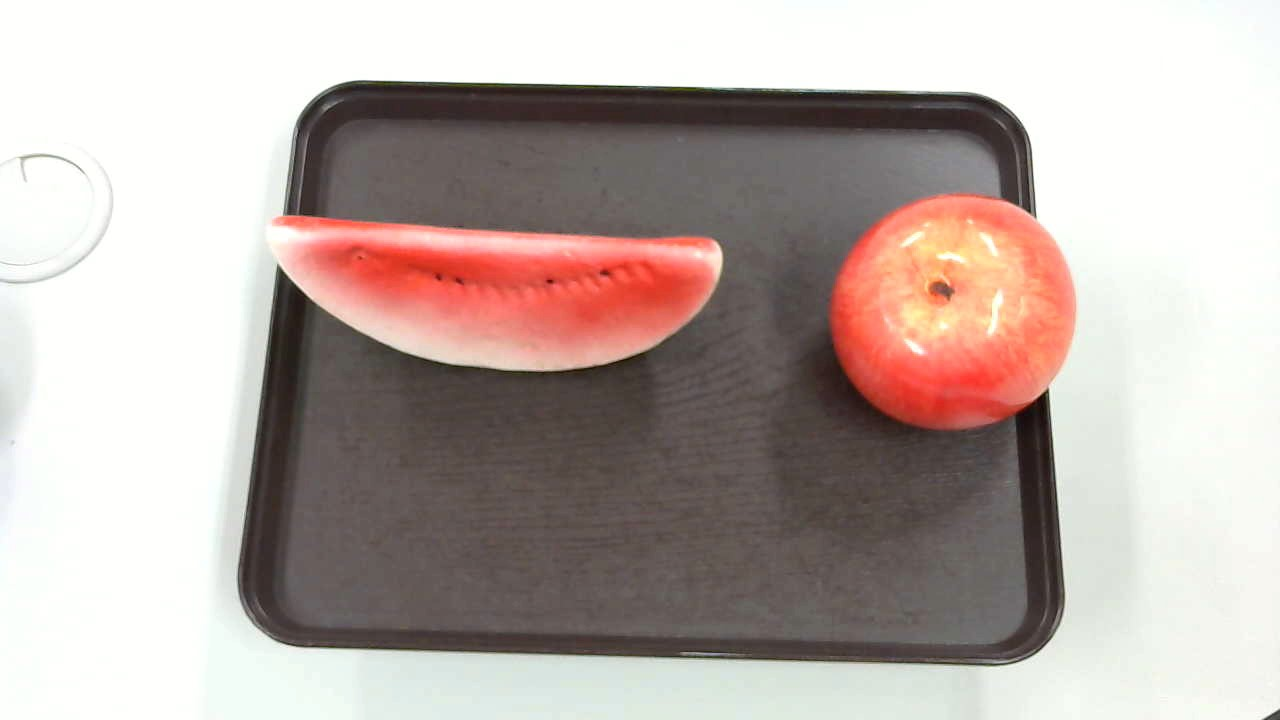red apple: (824, 193, 1079, 437)
water melon: (253, 208, 728, 380)
